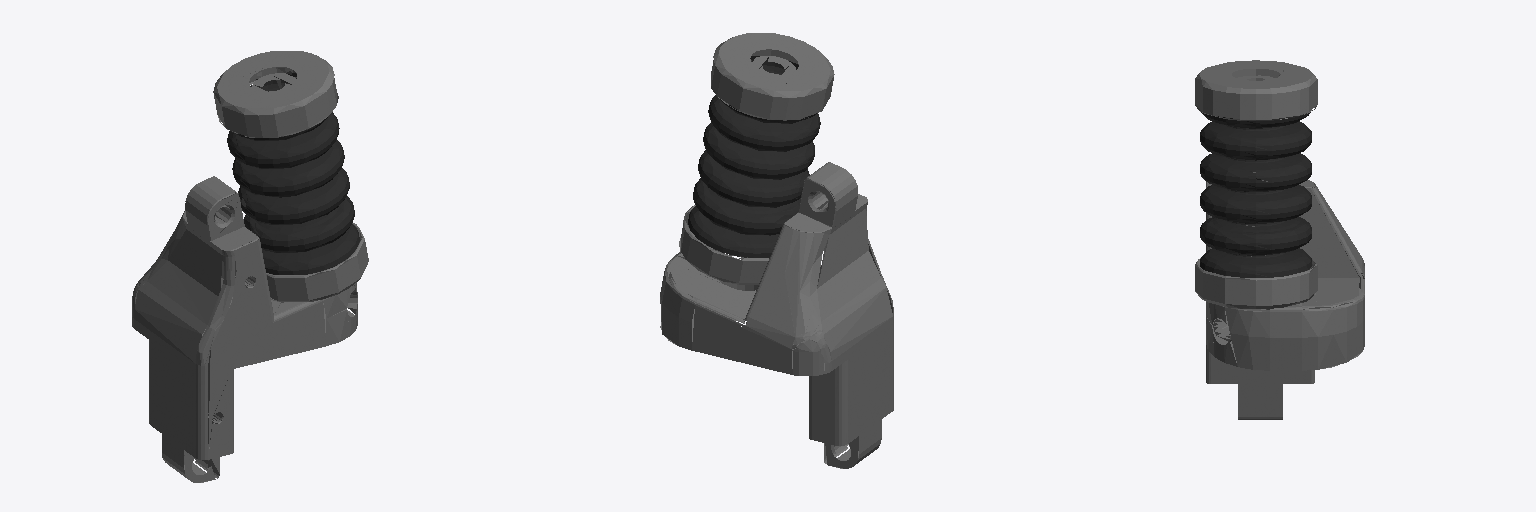
3 views of the same model, side by side, from view 1: azimuth 30°, elevation 25°; view 2: azimuth 150°, elevation 25°; view 3: azimuth 270°, elevation 25° (orthographic).
Bounding box in the file's own units: 0.0235 × 0.0468 × 0.0188.
1 materials, 1 textured.